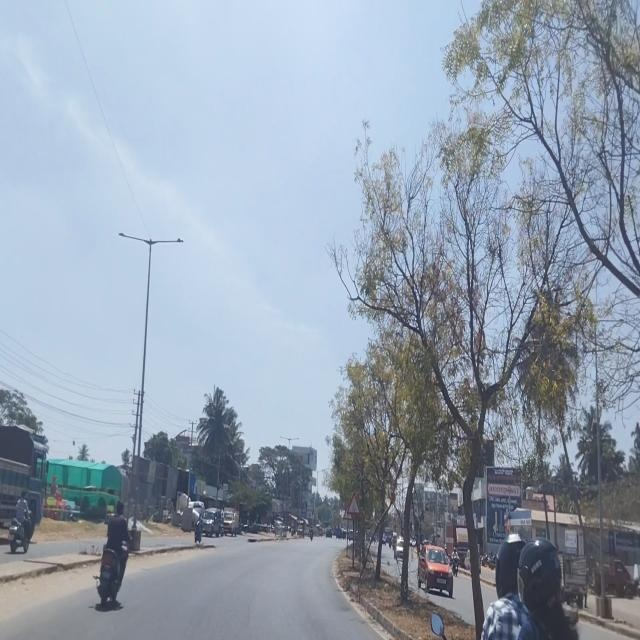bien_nguy_hiem: (347, 491, 360, 515)
